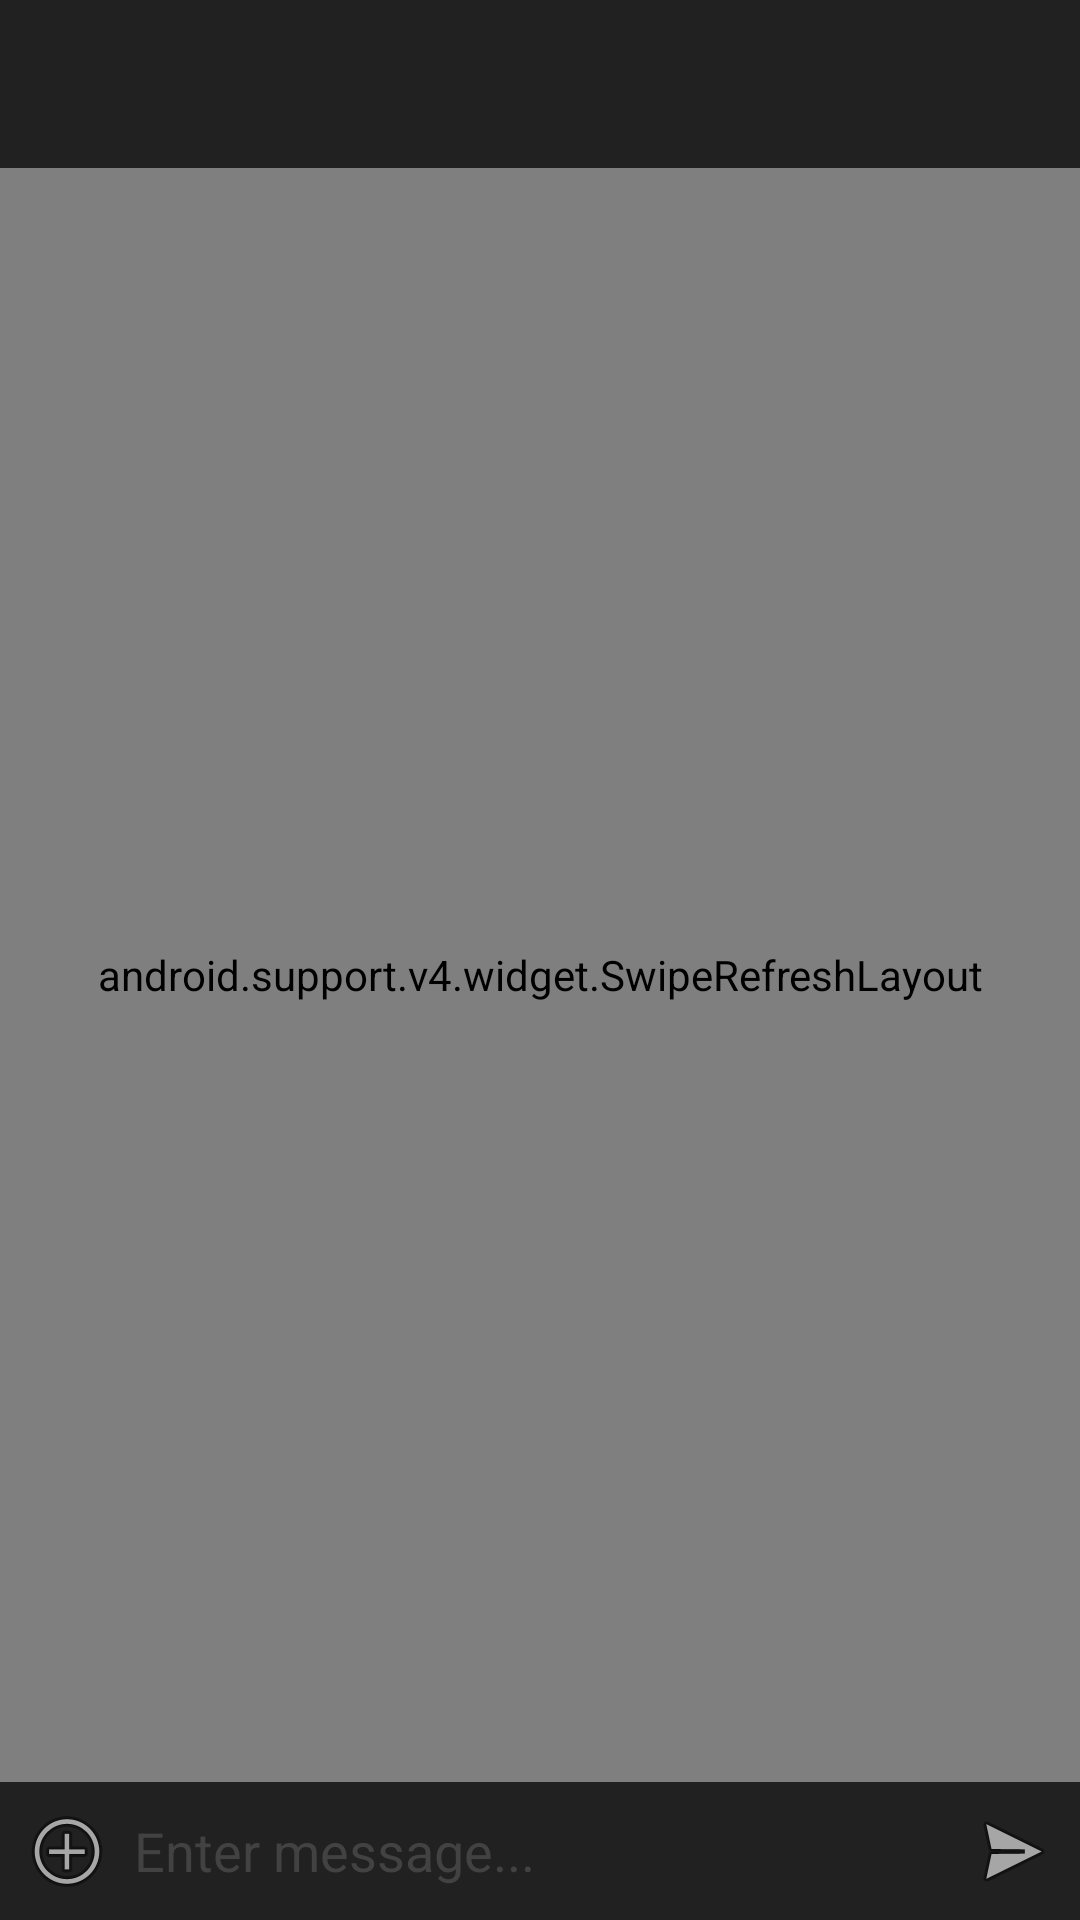

Screen size 1080 × 1920. Icon name, then its center in pixels as [x,y]:
add: [67,1851]
send: [1014,1851]
